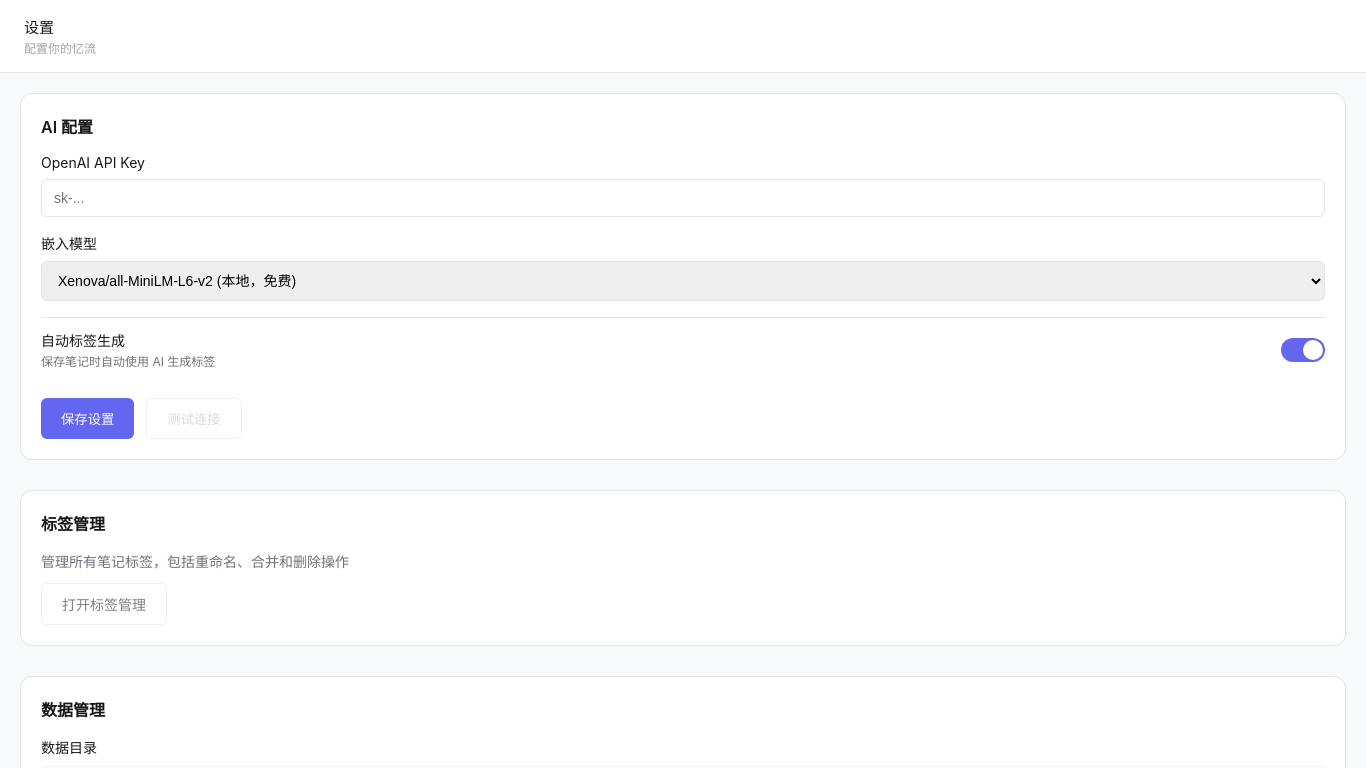
Test case: Settings Component › should enable test button when API key is entered
In the password field with placeholder "sk-...": (683, 198) [41,179,1325,217], type "sk-test123"
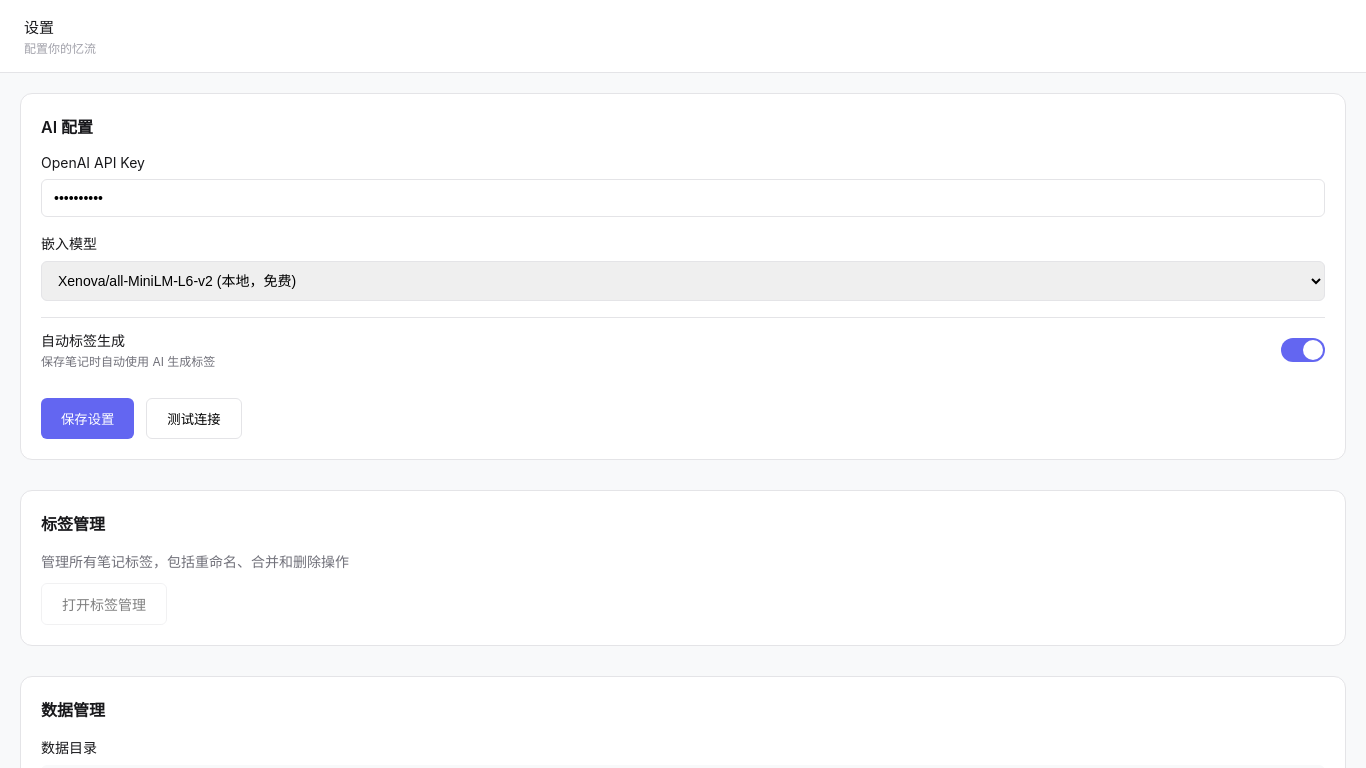
Expected: the button "测试连接" is enabled, [146,398,242,439]
